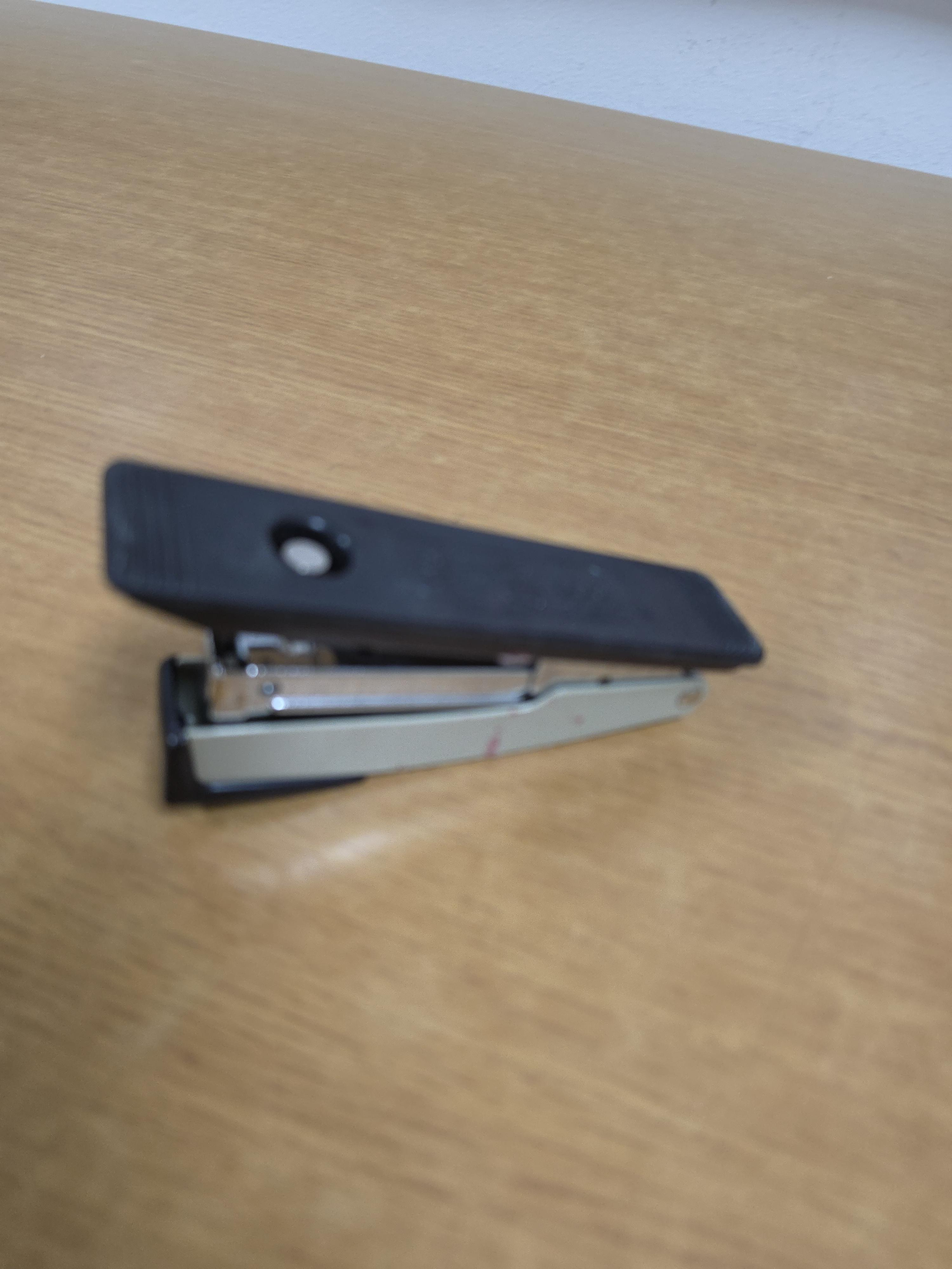stapler: (99, 459, 764, 807)
